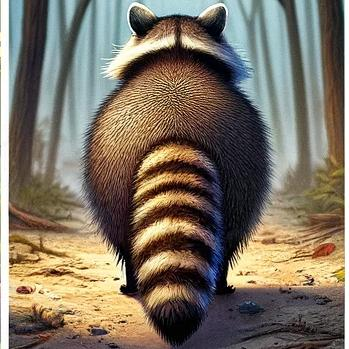raccoon: (72, 0, 283, 349)
